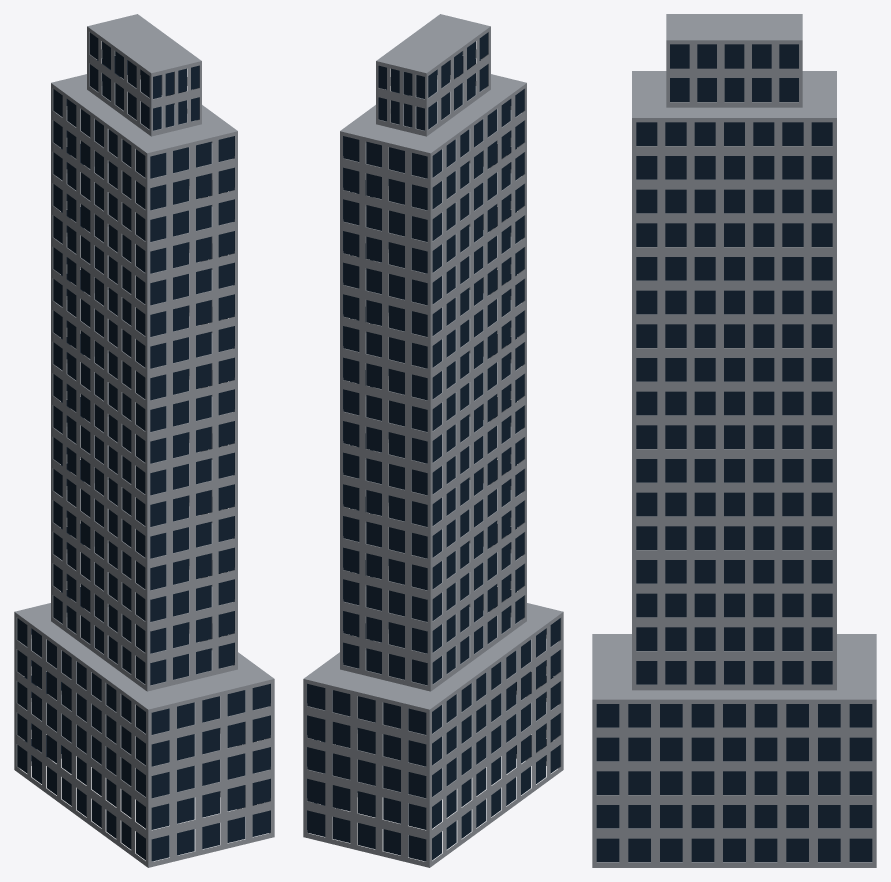
Rendered from Residential Buildings 008.obj.
The picture shows the model from 3 angles, left to right: view 1: azimuth 30°, elevation 25°; view 2: azimuth 150°, elevation 25°; view 3: azimuth 270°, elevation 25°; orthographic projection. The views are drawn at different scales.
Parts seen in each view (by area): view 1: Residential; view 2: Residential; view 3: Residential.
Part boxes in pixels (x1=…): Residential: x1=14, y1=14, x2=274, y2=867; Residential: x1=303, y1=14, x2=563, y2=867; Residential: x1=592, y1=14, x2=876, y2=867.
Bounding box in the file's own units: 12.59 × 72.39 × 23.1.
